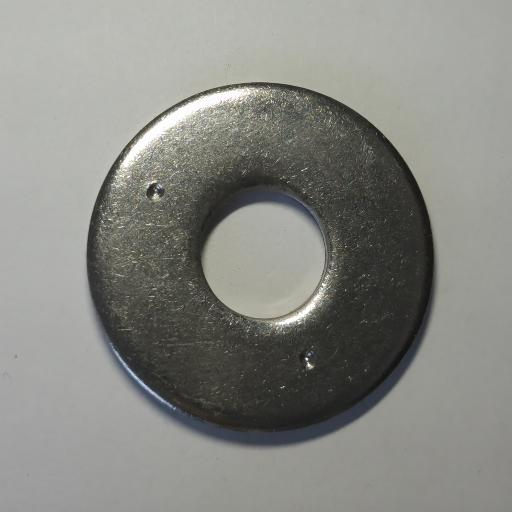circular_cavity: (298, 347, 318, 372), (146, 182, 165, 201)
